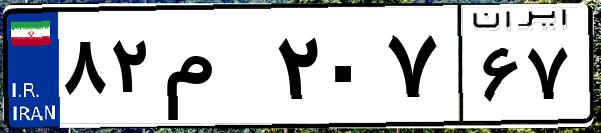0: (330, 28, 385, 110)
2: (270, 28, 330, 110), (110, 28, 158, 98)
6: (475, 38, 525, 113)
7: (385, 28, 445, 110), (525, 38, 570, 115)
8: (57, 26, 110, 100)
م: (158, 20, 270, 120)
